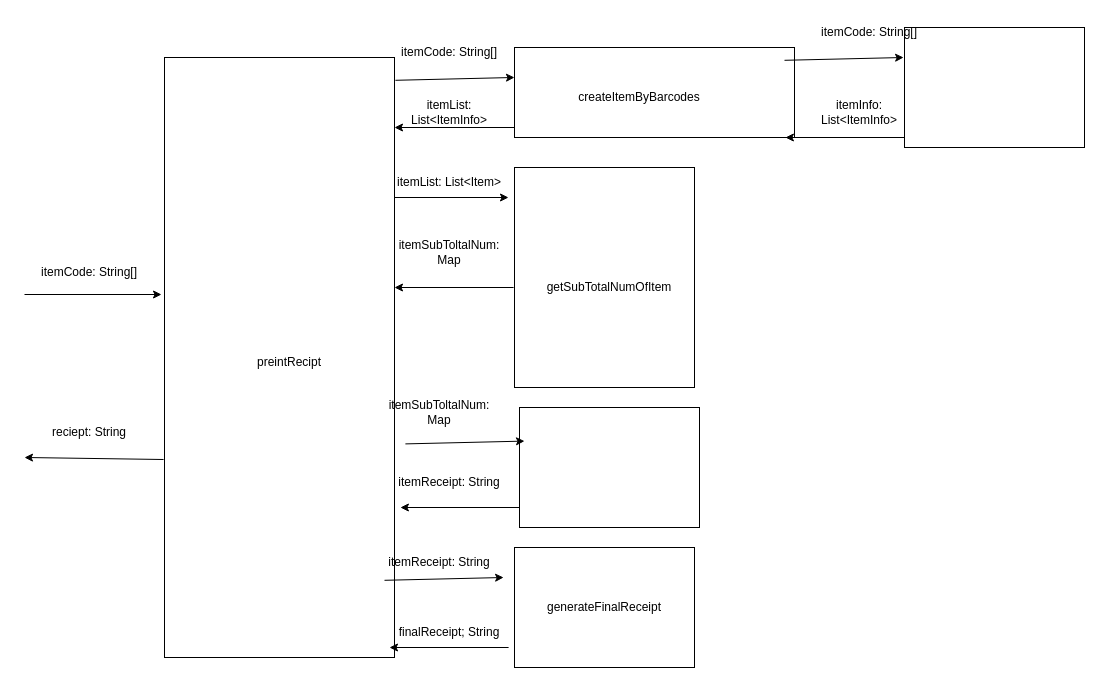
This 1102x685 diagram has some shape labels left out. Each missing label, with the box of its shape:
getEachItemReceipt: (518, 406, 700, 528)
loadAllItemInfos: (904, 26, 1084, 148)
